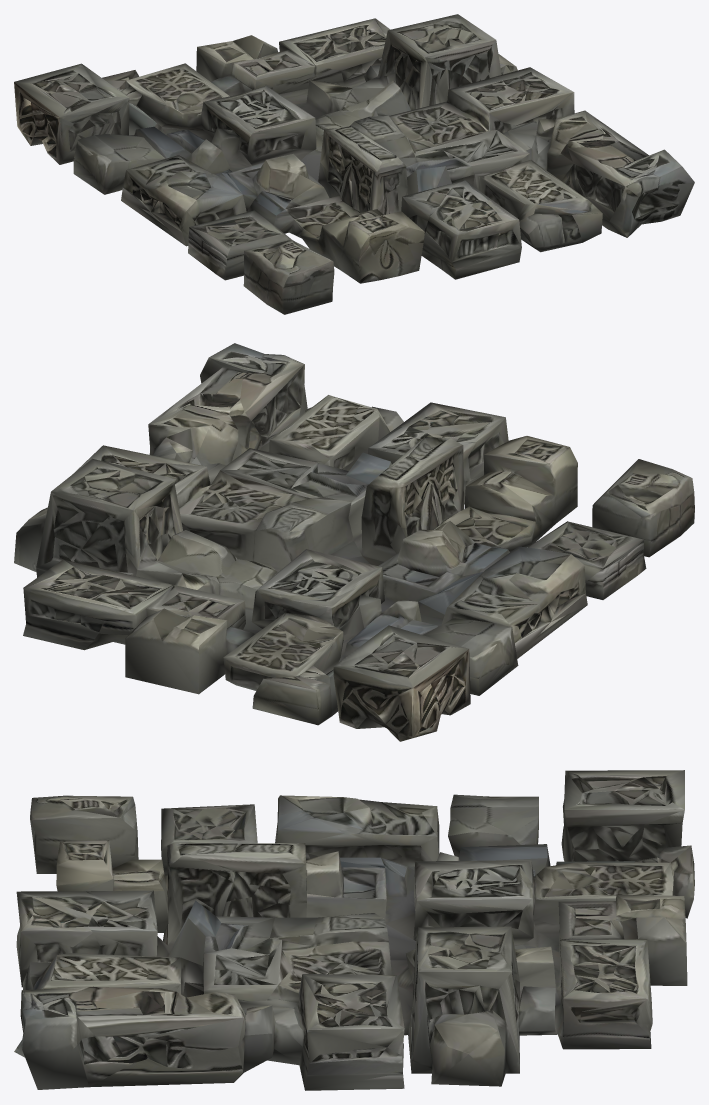
Rendered from gnd_gothic_stone_rubble.fbx.
The picture shows the model from 3 angles, top to bottom: view 1: azimuth 30°, elevation 25°; view 2: azimuth 150°, elevation 25°; view 3: azimuth 270°, elevation 25°; orthographic projection. The views are drawn at different scales.
Parts seen in each view (by area): view 1: gnd_gothic_stone_rubble_LOD0; view 2: gnd_gothic_stone_rubble_LOD0; view 3: gnd_gothic_stone_rubble_LOD0.
Part boxes in pixels (left/top/right/bottom): gnd_gothic_stone_rubble_LOD0: left=14, top=14, right=694, bottom=314; gnd_gothic_stone_rubble_LOD0: left=14, top=343, right=694, bottom=741; gnd_gothic_stone_rubble_LOD0: left=14, top=770, right=694, bottom=1090.
Size of what is drawn, in the model's own units: 0.8987 by 0.1582 by 0.9805.
